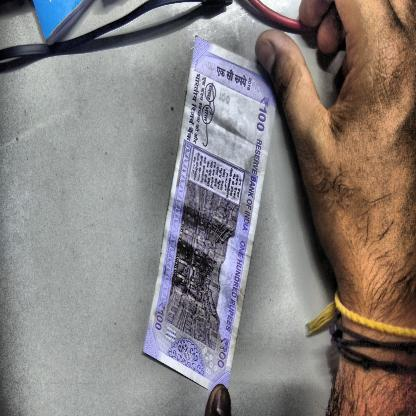Rs100: (254, 92, 272, 137), (152, 295, 170, 335)
